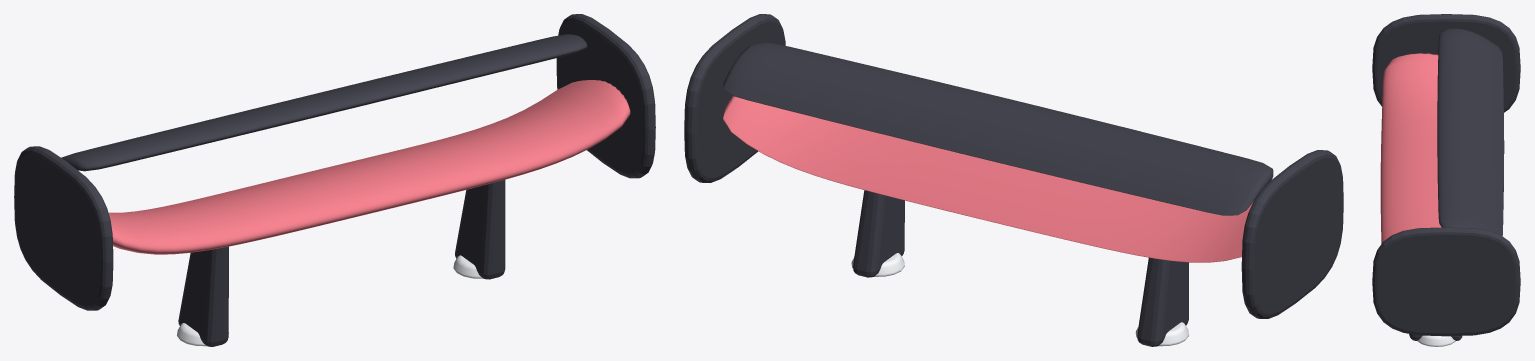
Rendered from spoiler-cift.glb.
3 renders of one model, left to right at view 1: azimuth 30°, elevation 25°; view 2: azimuth 150°, elevation 25°; view 3: azimuth 270°, elevation 25°, orthographic. The views are drawn at different scales.
Visible parts, largest first — view 1: wing, plate-1, wing2, plate1, post-1, post1; view 2: wing2, wing, plate-1, plate1, post-1, post1; view 3: plate1, wing2, wing, plate-1, pad1.
Boxes of the visible parts, x1,y1,x2,y2 form: wing: (108, 80, 630, 254); plate-1: (14, 146, 113, 310); wing2: (61, 34, 587, 171); plate1: (556, 14, 655, 178); post-1: (178, 246, 228, 346); post1: (455, 180, 505, 279); wing2: (723, 43, 1273, 215); wing: (723, 96, 1253, 262); plate-1: (1241, 150, 1343, 318); plate1: (684, 14, 785, 182); post-1: (1137, 257, 1188, 346); post1: (853, 190, 904, 277); plate1: (1372, 227, 1520, 336); wing2: (1437, 28, 1504, 235); wing: (1380, 53, 1441, 243); plate-1: (1372, 14, 1520, 112); pad1: (1417, 335, 1455, 346).
Bounding box in the file's own units: 1.04 × 0.3632 × 0.3.
